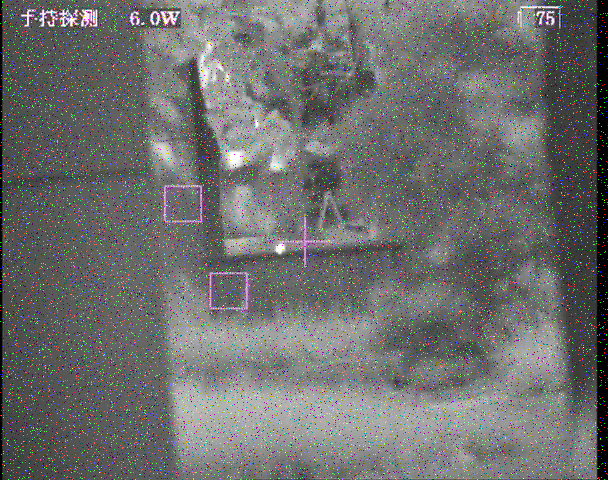my: (274, 241, 287, 255)
